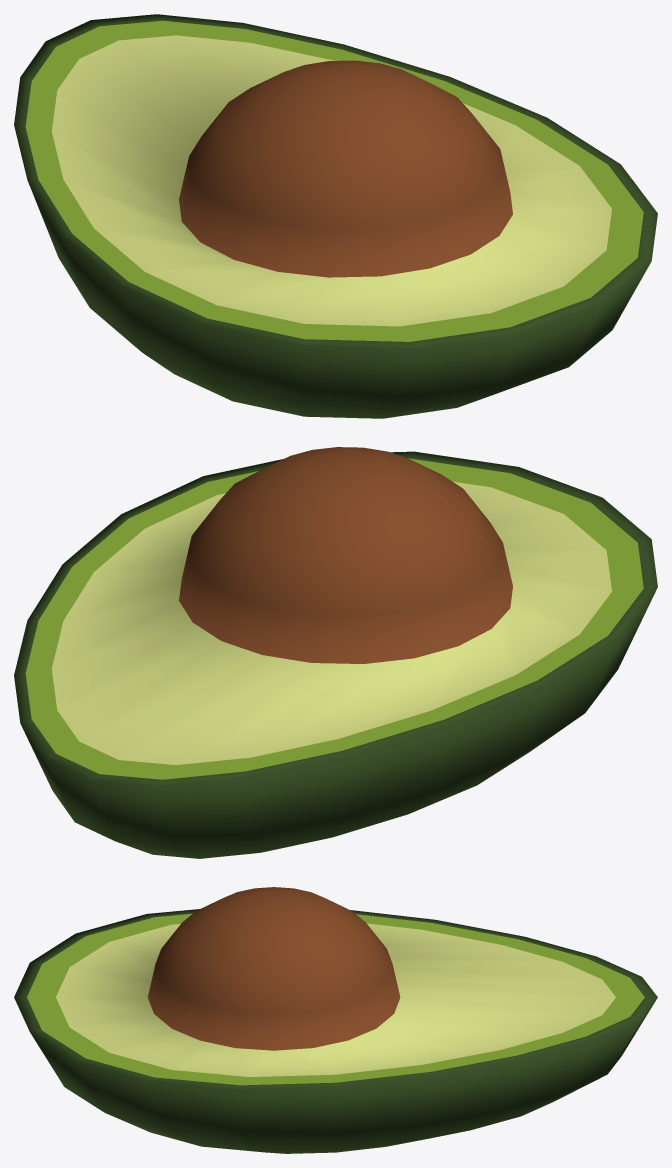
The model's file is NEW_RECOVERY_044_LOD2.glb.
3 renders of one model, top to bottom at view 1: azimuth 30°, elevation 25°; view 2: azimuth 150°, elevation 25°; view 3: azimuth 270°, elevation 25°, orthographic. The views are drawn at different scales.
Visible parts, largest first — view 1: Avocado_half; view 2: Avocado_half; view 3: Avocado_half.
Part boxes in pixels (<box>): Avocado_half: <box>14,14,657,418</box>; Avocado_half: <box>14,447,657,858</box>; Avocado_half: <box>14,887,657,1153</box>.
Bounding box in the file's own units: 1.75 × 1 × 2.6.
